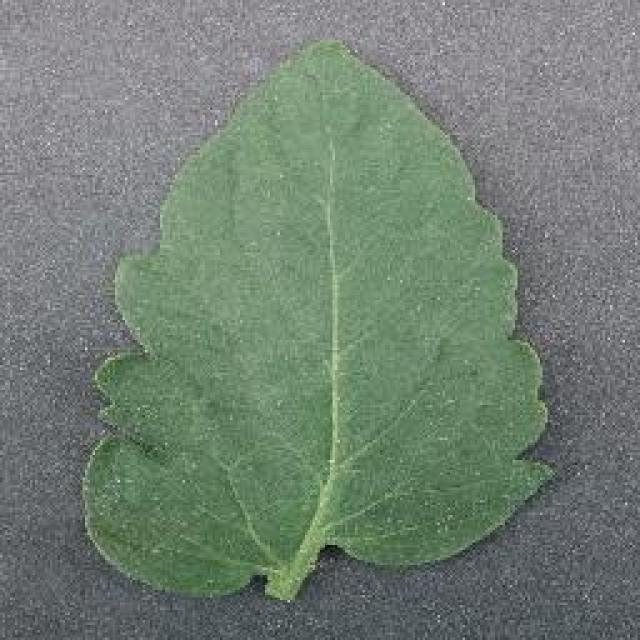Tomato___healthy: (79, 37, 558, 607)
